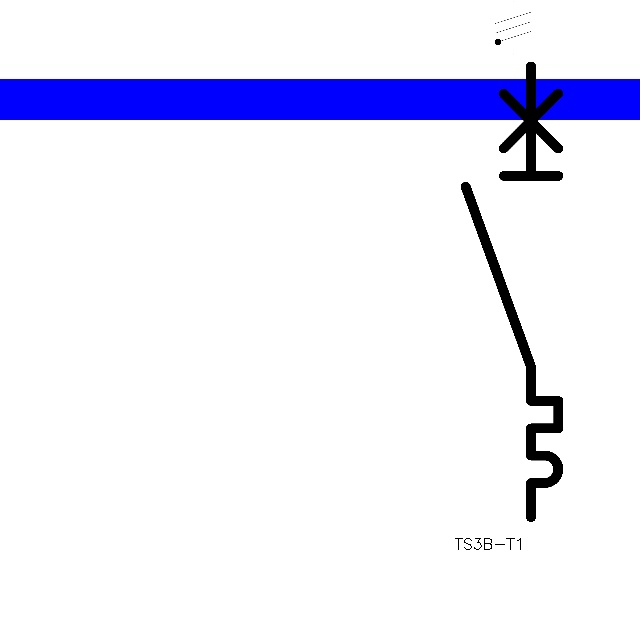interruptor_termomagnetico: (454, 54, 570, 528)
